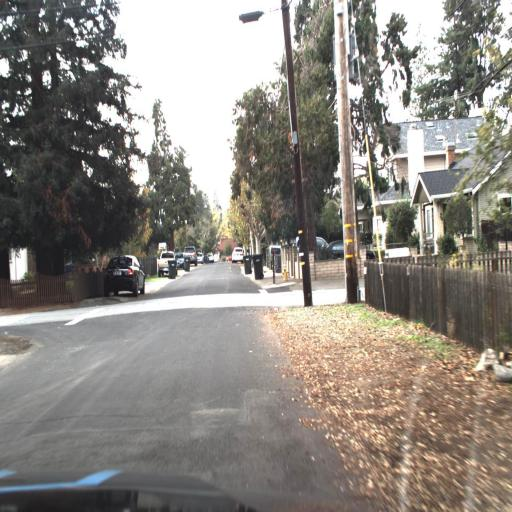car: (99, 249, 144, 300), (100, 254, 148, 294), (324, 237, 379, 261), (154, 243, 178, 279), (298, 231, 332, 256), (156, 249, 179, 278), (176, 251, 191, 270), (184, 246, 198, 266), (231, 246, 245, 262), (197, 252, 205, 264)
